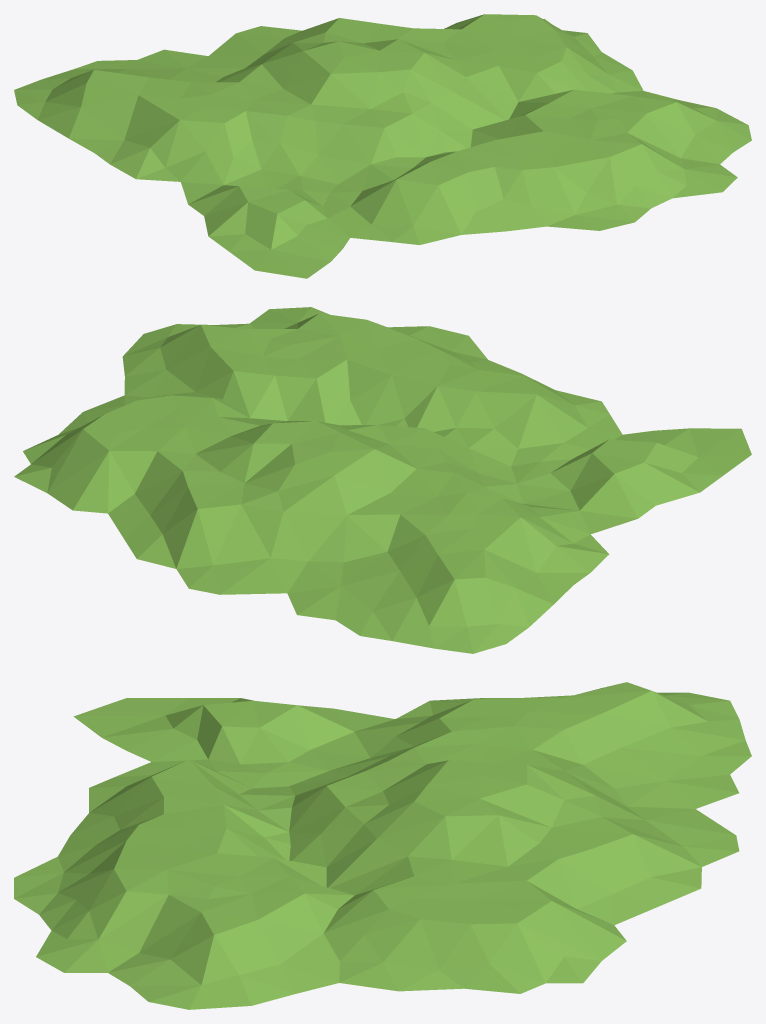
The model's file is MT_Mountain_M_b_08.fbx.
3 views of the same model, one above another, from view 1: azimuth 30°, elevation 25°; view 2: azimuth 150°, elevation 25°; view 3: azimuth 270°, elevation 25° (orthographic). The views are drawn at different scales.
Visible parts, largest first — view 1: MT_Mountain_M_b_08; view 2: MT_Mountain_M_b_08; view 3: MT_Mountain_M_b_08.
Boxes of the visible parts, x1,y1,x2,y2 form: MT_Mountain_M_b_08: (14, 14, 751, 278); MT_Mountain_M_b_08: (14, 307, 751, 653); MT_Mountain_M_b_08: (14, 682, 751, 1009).
Bounding box in the file's own units: 4688 × 434 × 4609.
